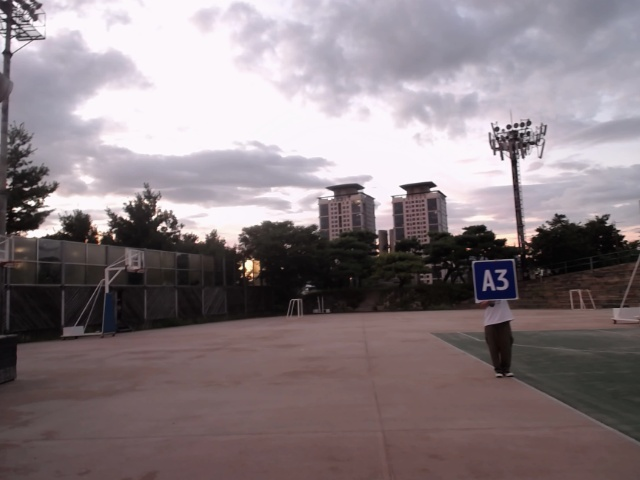delivery_a3: (471, 261, 517, 301)
